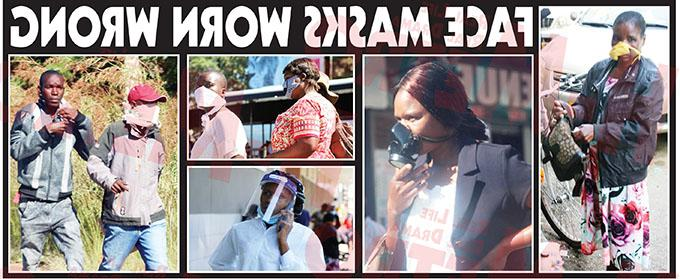mask_weared_incorrect: (249, 193, 289, 224), (608, 34, 639, 62)
with_mask: (384, 106, 439, 167), (132, 99, 164, 129), (193, 80, 220, 106), (278, 72, 300, 99)
without_mask: (41, 81, 64, 105)
